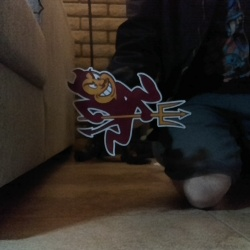sparky: (65, 66, 190, 156)
